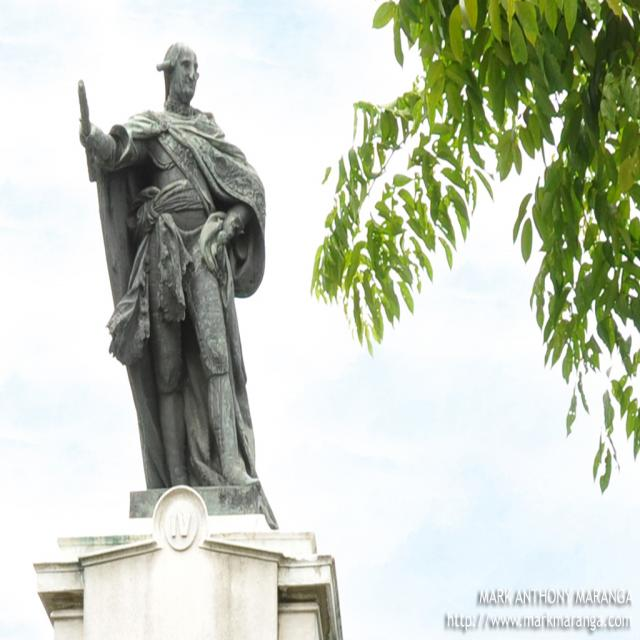King Charles IV Monument: (34, 19, 308, 640)
